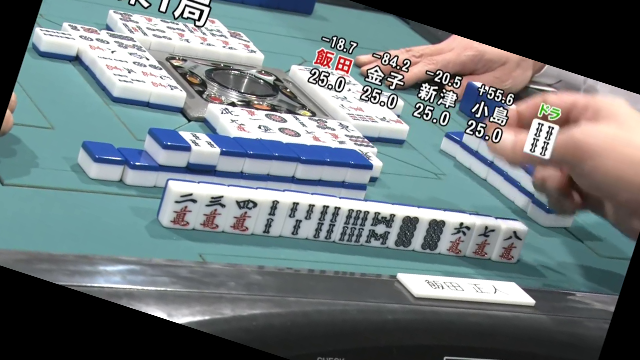Tehai: (155, 176, 520, 266)
